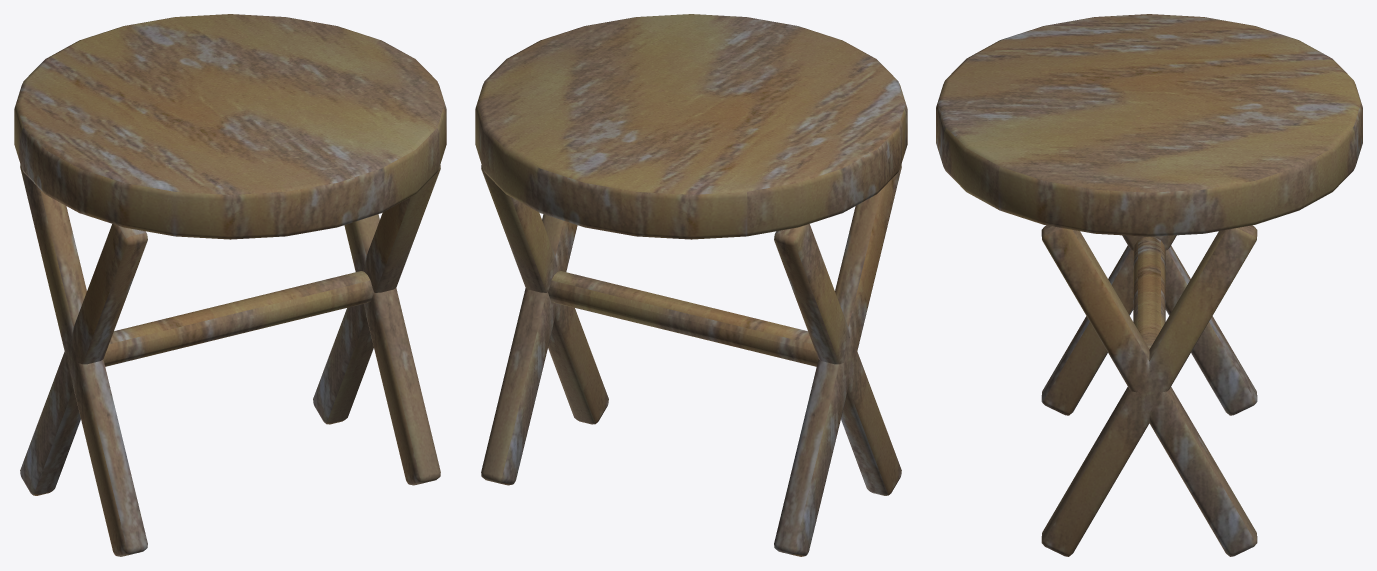
The model's file is Antique_Chair_13.fbx.
3 renders of one model, left to right at view 1: azimuth 30°, elevation 25°; view 2: azimuth 150°, elevation 25°; view 3: azimuth 270°, elevation 25°, orthographic.
Parts seen in each view (by area): view 1: Antique_Chair; view 2: Antique_Chair; view 3: Antique_Chair.
Part boxes in pixels (box(x1,y1,x2,y2)): Antique_Chair: box(14, 14, 446, 556); Antique_Chair: box(475, 14, 907, 556); Antique_Chair: box(936, 14, 1362, 556).
Bounding box in the file's own units: 0.4876 × 0.4803 × 0.4876.
1 material, 1 textured.
